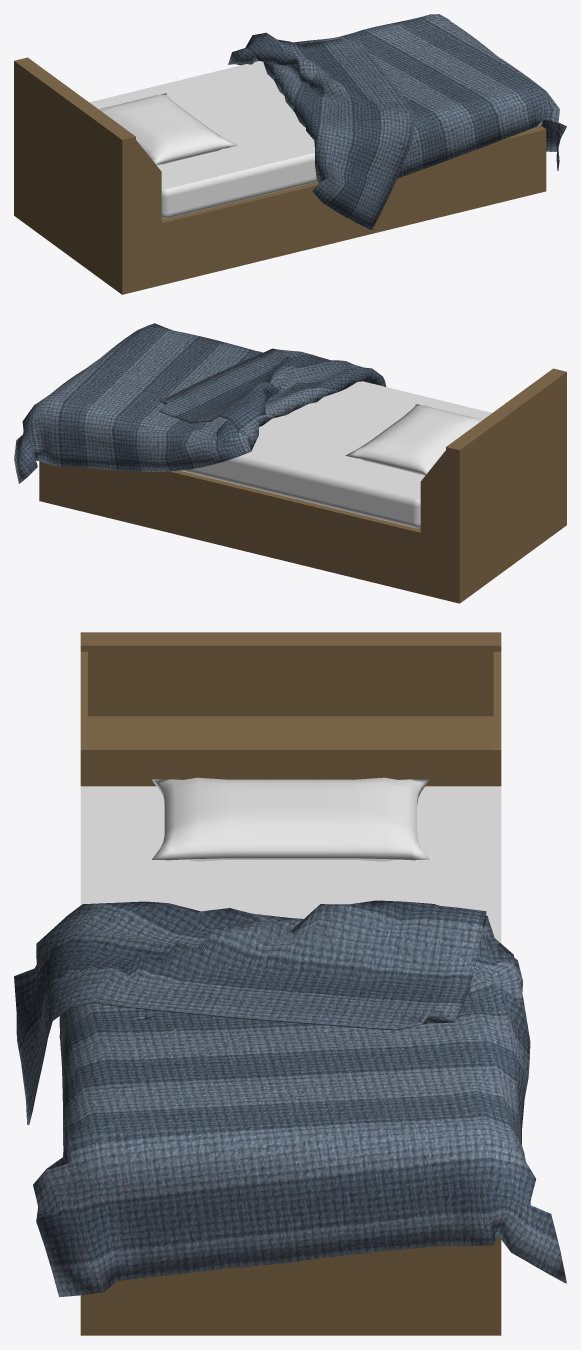
Rendered from bed.glb.
3 views of the same model, one above another, from view 1: azimuth 30°, elevation 25°; view 2: azimuth 150°, elevation 25°; view 3: azimuth 270°, elevation 25° (orthographic). The views are drawn at different scales.
Visible parts, largest first — view 1: Frame, Branket_baked_, Matrress, _TOP_Matrress, Pillow; view 2: Frame, Branket_baked_, Matrress, _TOP_Matrress, Pillow; view 3: Branket_baked_, Frame, Matrress, _TOP_Matrress, Pillow.
Boxes of the visible parts, x1,y1,x2,y2 form: Frame: (14,57,546,294); Branket_baked_: (228,14,566,230); Matrress: (94,64,542,218); _TOP_Matrress: (89,61,314,189); Pillow: (99,93,237,165); Frame: (39,368,566,603); Branket_baked_: (14,323,386,483); Matrress: (180,383,487,528); _TOP_Matrress: (241,381,491,499); Pillow: (345,404,482,475); Branket_baked_: (14,900,566,1297); Frame: (80,632,501,1335); Matrress: (98,793,483,918); _TOP_Matrress: (80,786,501,943); Pillow: (151,777,429,861).
Size of the model in its own units: 2.25 by 0.75 by 1.25.
4 materials, 1 textured.
